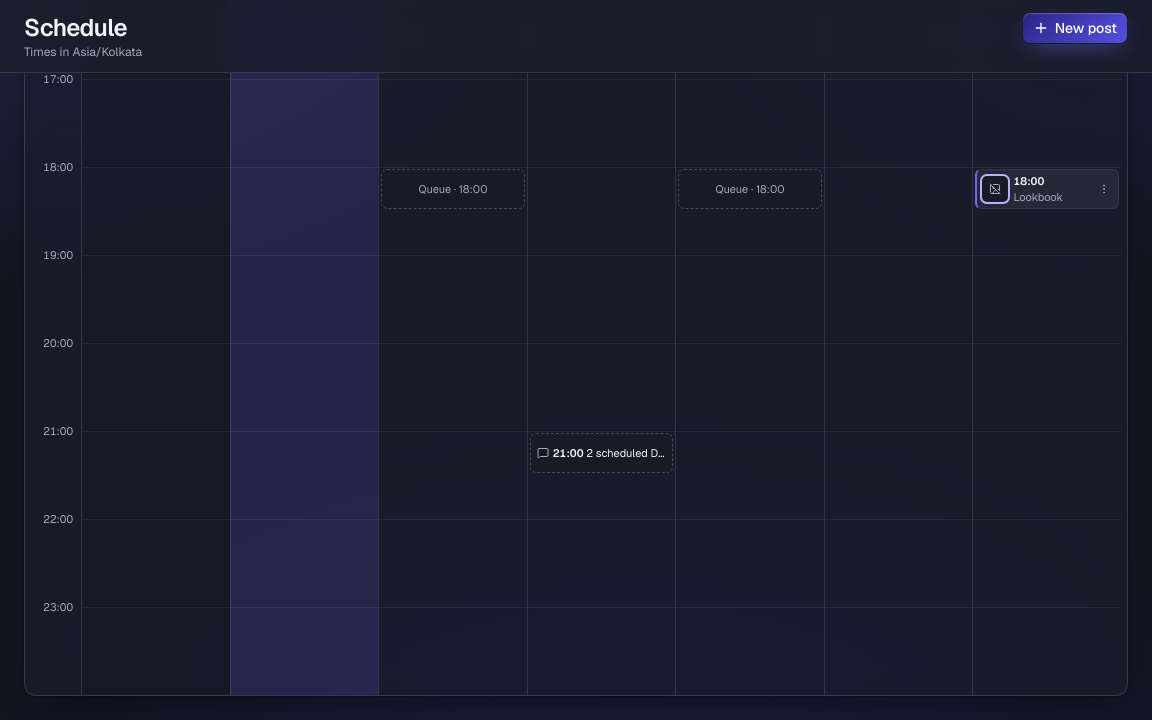
it: Schedule page: Week (UX-SCR-04, FR-PUB-08) › opens the scheduled DMs of a time, each linking to its conversation
(page scrolled)
Click the button with aria-label "2 scheduled DMs, 21:00" at (602, 453), box [530,433,673,473]
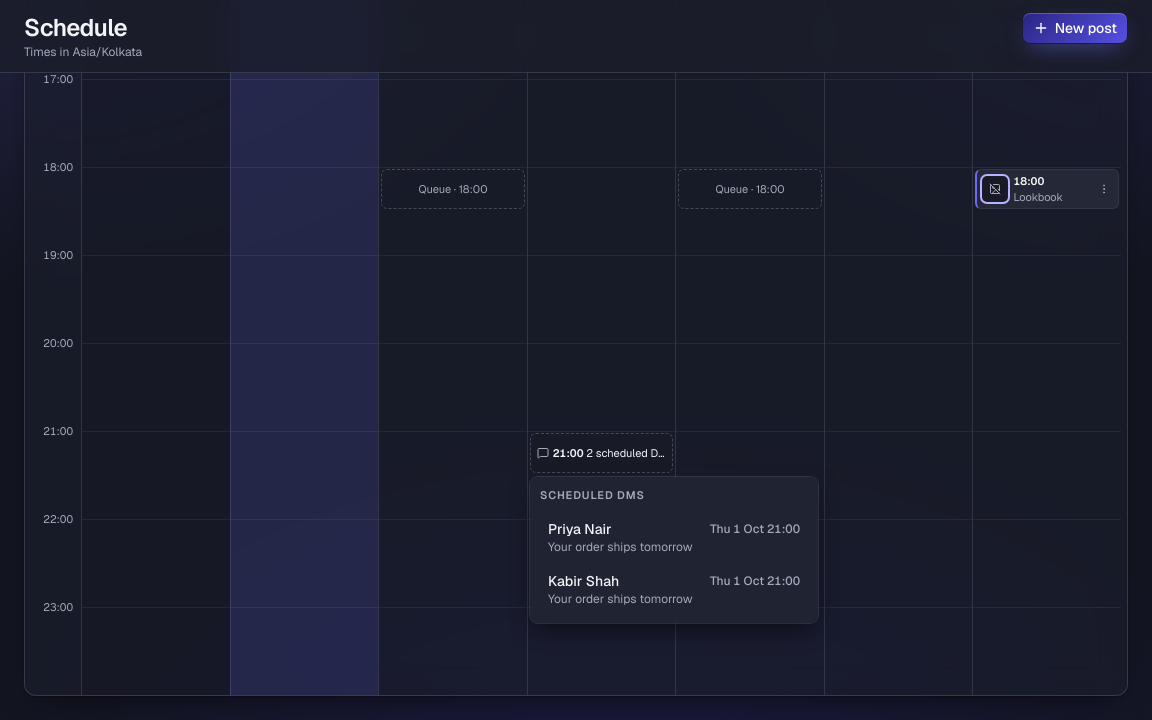
expect the text "Kabir Shah" is shown: met, box [548,571,619,591]
